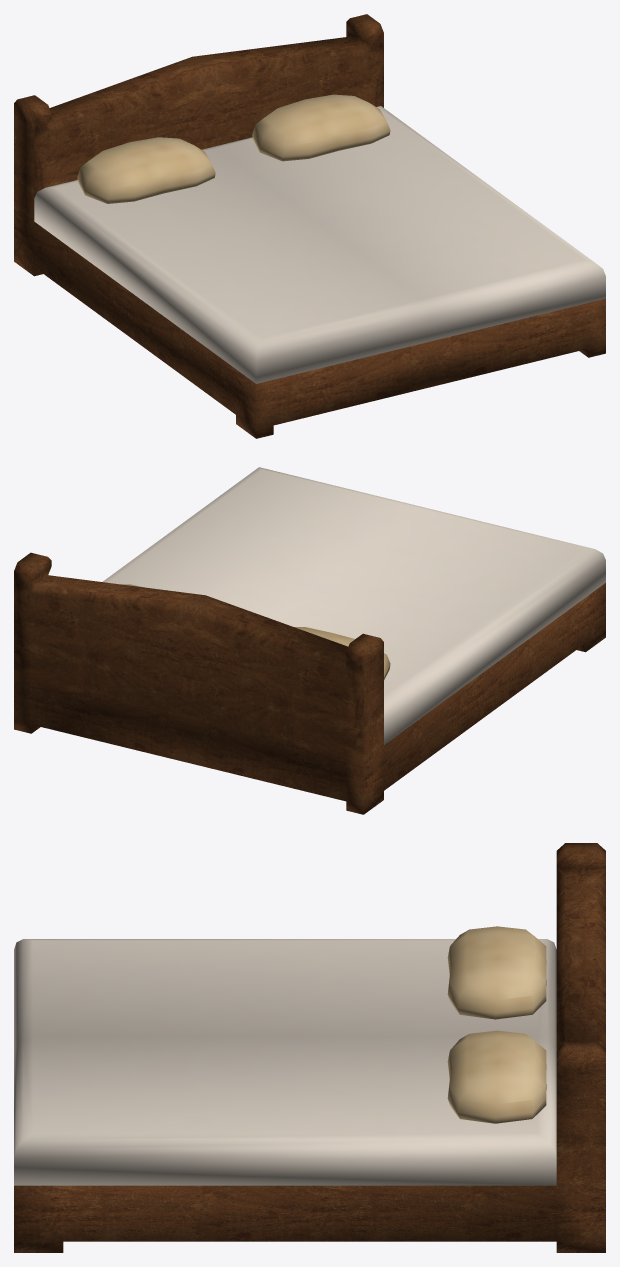
The model's file is Cama.fbx.
3 views of the same model, one above another, from view 1: azimuth 30°, elevation 25°; view 2: azimuth 150°, elevation 25°; view 3: azimuth 270°, elevation 25° (orthographic). The views are drawn at different scales.
Parts seen in each view (by area): view 1: Cube.003; view 2: Cube.003; view 3: Cube.003.
Part boxes in pixels (x1,y1,x2,y2): Cube.003: (14, 14, 605, 438); Cube.003: (14, 467, 605, 814); Cube.003: (14, 843, 605, 1252).
Size of the model in its own units: 200 by 90 by 240.
2 materials, 2 textured.
